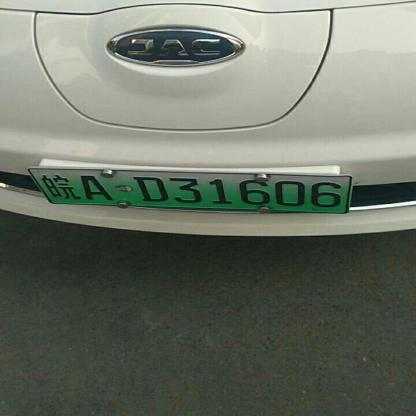lp: (27, 167, 53, 212)
